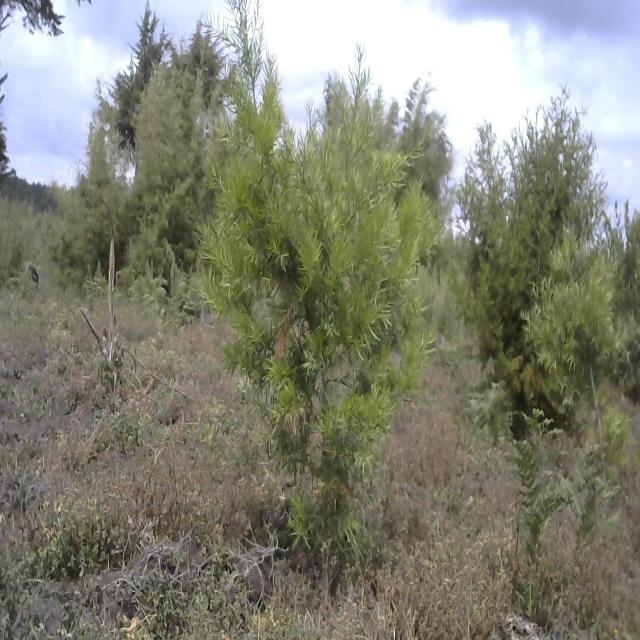Juniperus procesera: (470, 97, 596, 403), (105, 2, 172, 144)
Podocarpus falcatus: (203, 0, 445, 546), (537, 233, 624, 542)
